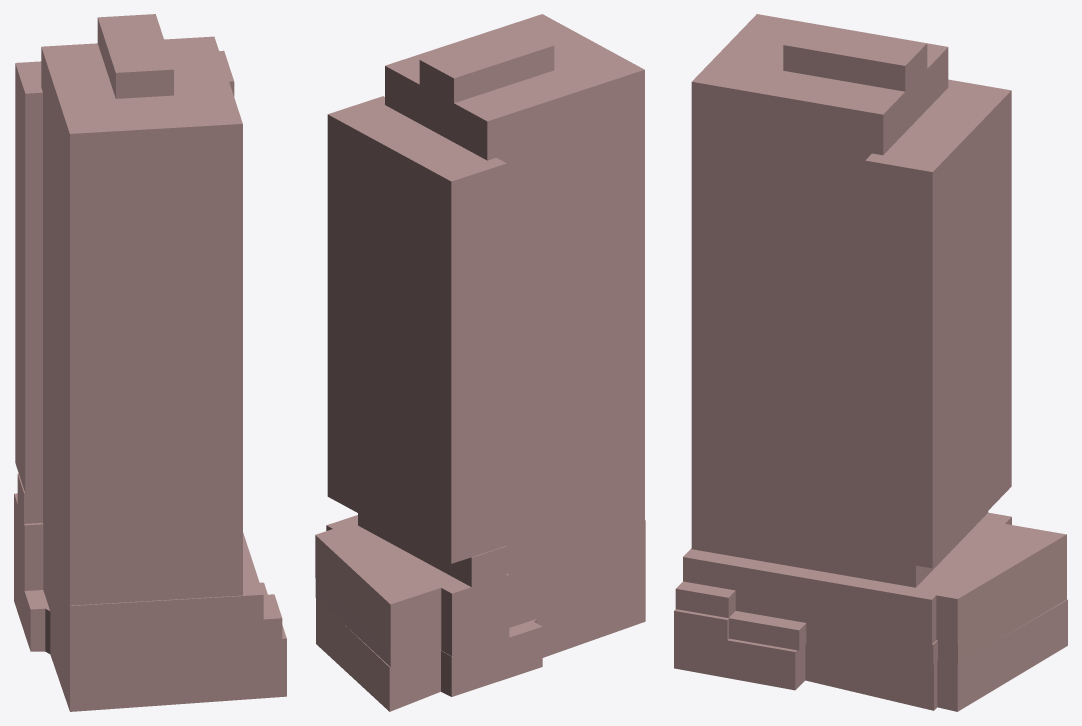
The model's file is fowler-1970-july2026-plan-envelope.glb.
3 renders of one model, left to right at view 1: azimuth 30°, elevation 25°; view 2: azimuth 150°, elevation 25°; view 3: azimuth 270°, elevation 25°, orthographic. The views are drawn at different scales.
Visible parts, largest first — view 1: fowler-1970-july2026-plan-envelope; view 2: fowler-1970-july2026-plan-envelope; view 3: fowler-1970-july2026-plan-envelope.
Part boxes in pixels (<box>): fowler-1970-july2026-plan-envelope: <box>14,14,286,711</box>; fowler-1970-july2026-plan-envelope: <box>315,14,645,711</box>; fowler-1970-july2026-plan-envelope: <box>674,14,1067,711</box>.
Bounding box in the file's own units: 37.64 × 89.51 × 52.69.
